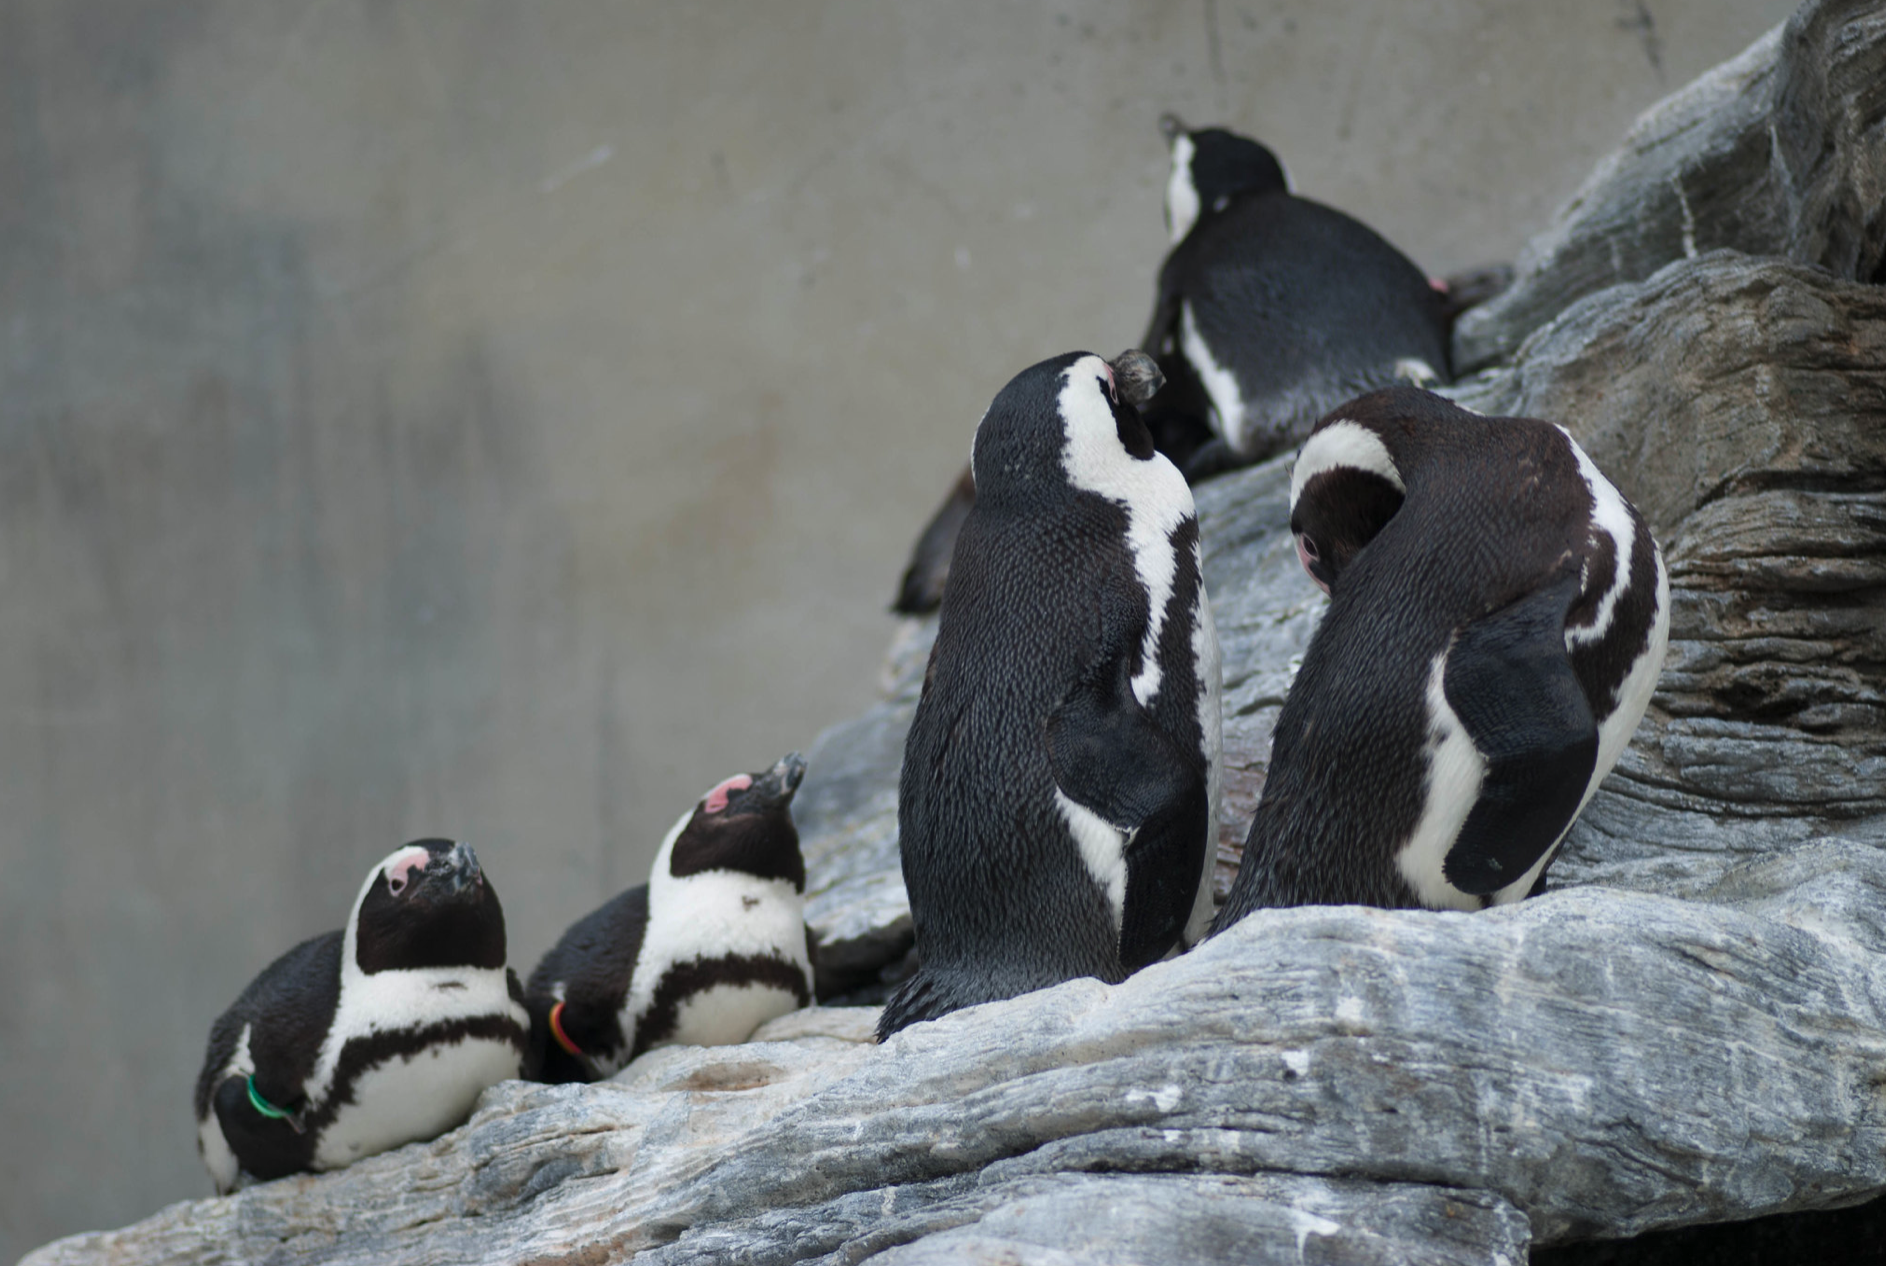penguin: (1246, 396, 1667, 923), (920, 346, 1219, 1072)
